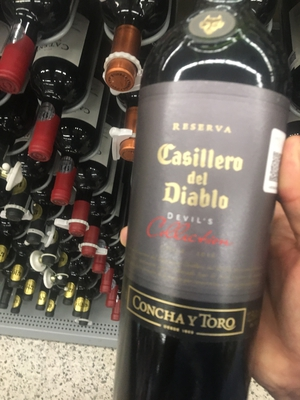casillero del diablo devils collection rojo: (110, 32, 285, 400)
